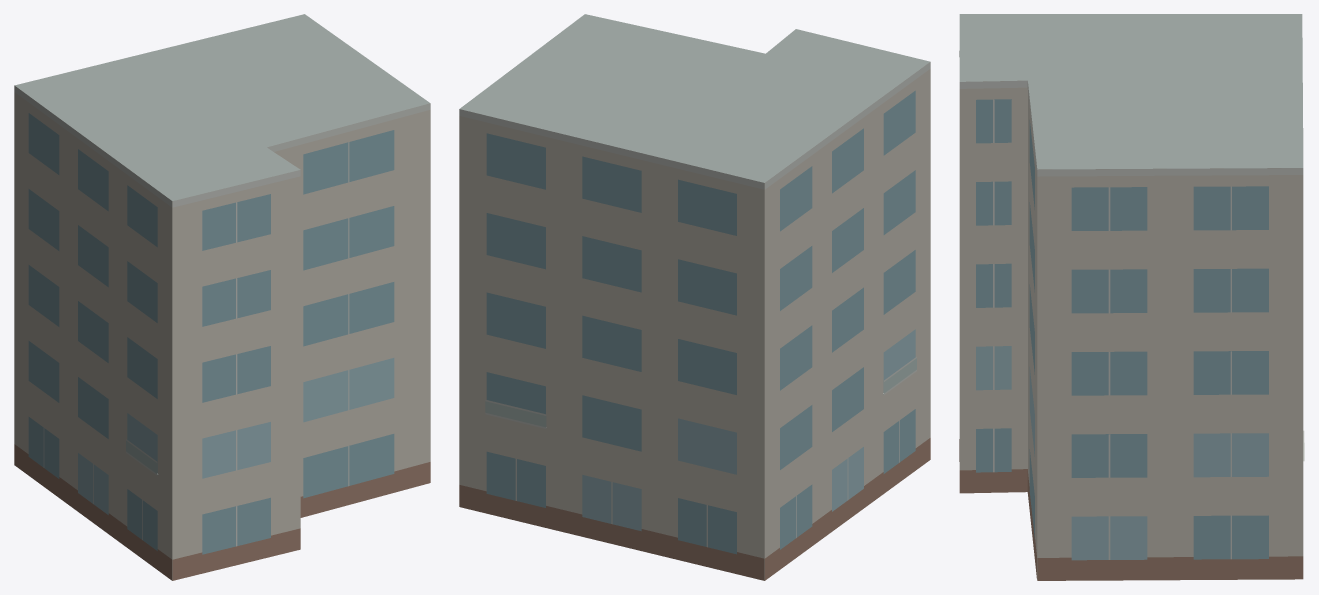
File: survey-upis-32647665.glb
3 views of the same model, side by side, from view 1: azimuth 30°, elevation 25°; view 2: azimuth 150°, elevation 25°; view 3: azimuth 270°, elevation 25° (orthographic). The views are drawn at different scales.
Parts seen in each view (by area): view 1: survey-upis-32647665.tmp; view 2: survey-upis-32647665.tmp; view 3: survey-upis-32647665.tmp.
Boxes of the visible parts, x1,y1,x2,y2 form: survey-upis-32647665.tmp: (14,14,430,580); survey-upis-32647665.tmp: (459,14,930,580); survey-upis-32647665.tmp: (959,14,1304,580).
Bounding box in the file's own units: 11.59 × 14.25 × 10.84.
